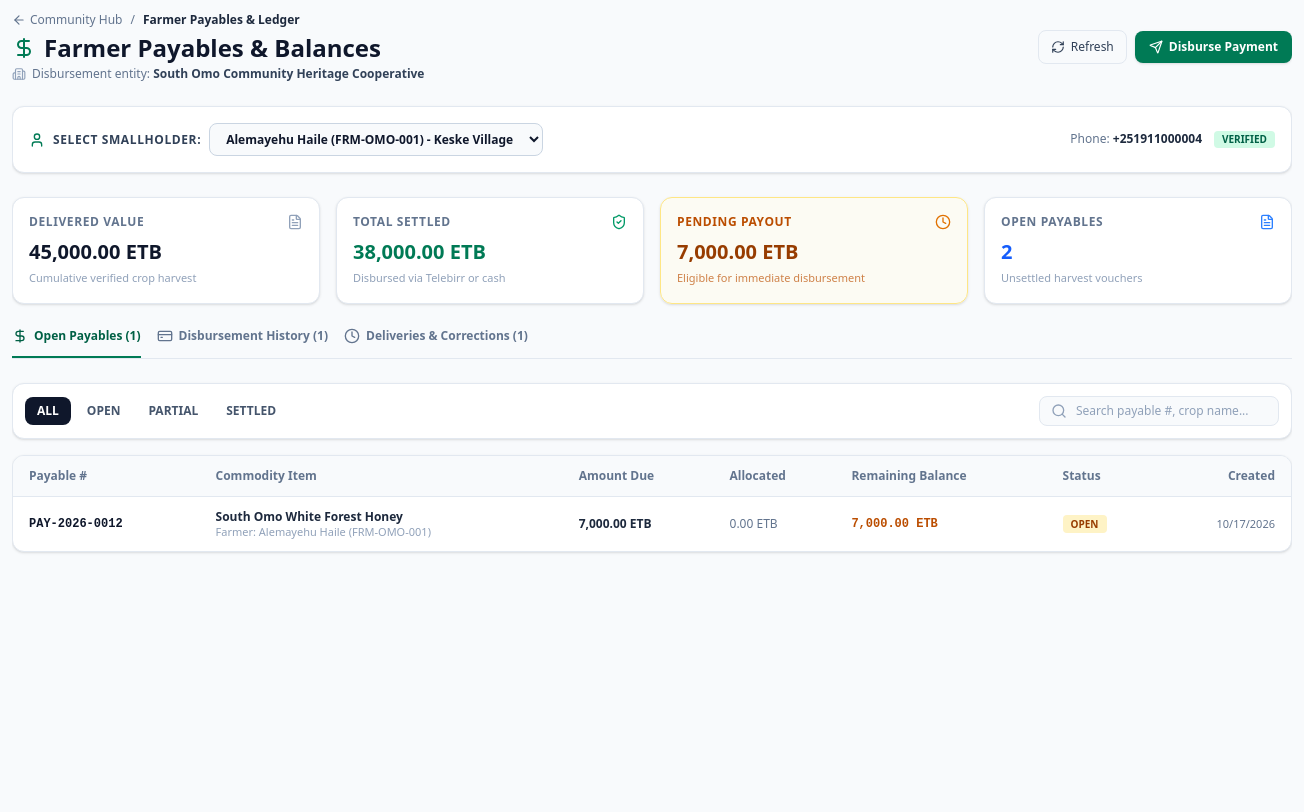
it: Farmer Payables, Balances & Payout Disbursements (F-806, F-807, F-808) › filters payables by status tab and search input
Expected: the text "PAY-2026-0012" is shown, [13,496,204,551]
Filter by SETTLED: PAY-2026-0012 is OPEN, so should disappear
Step 1. Click the button "SETTLED" → point(251, 410), box [214,396,288,424]
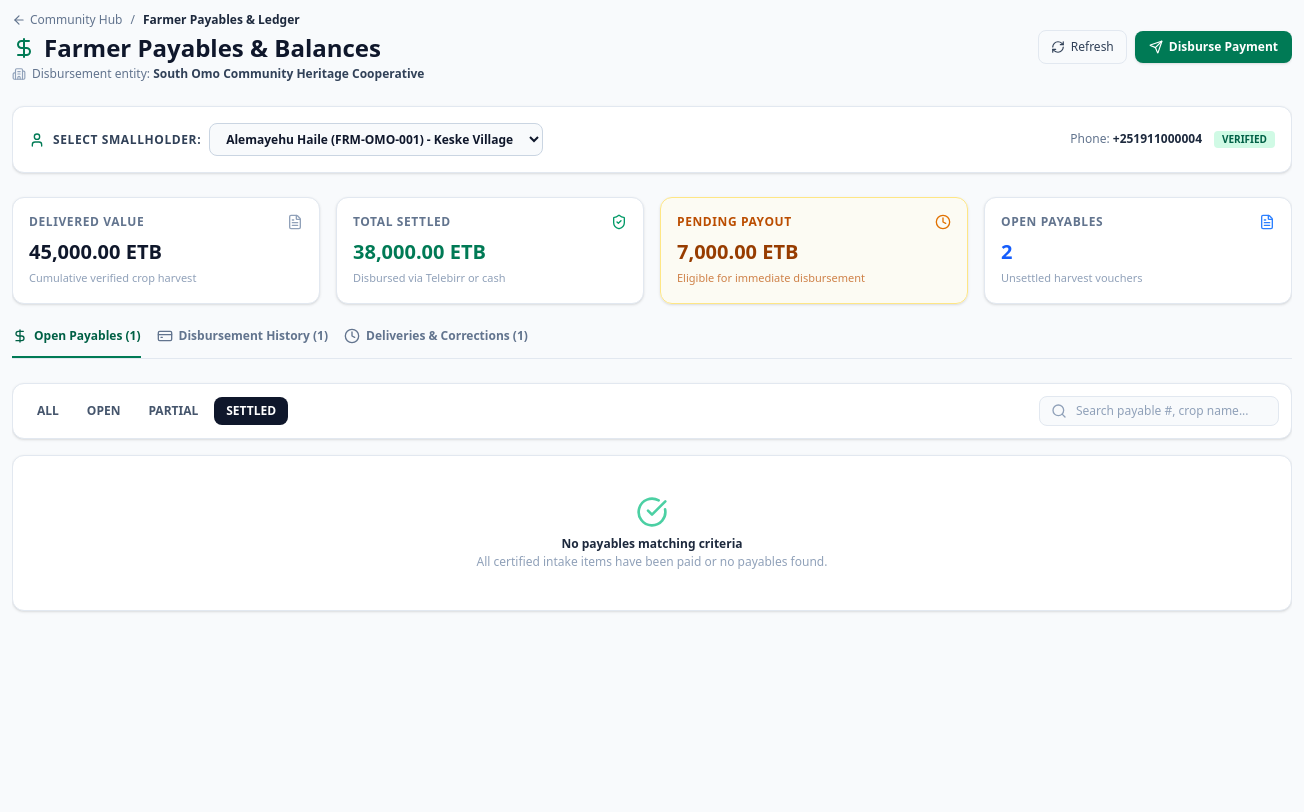
Expected: the text "PAY-2026-0012" is gone
Expected: the element with test id "empty-payables" is shown, [477,496,828,570]
Reset to ALL
Step 2. Click the button "ALL" → point(48, 410), box [25,396,71,424]
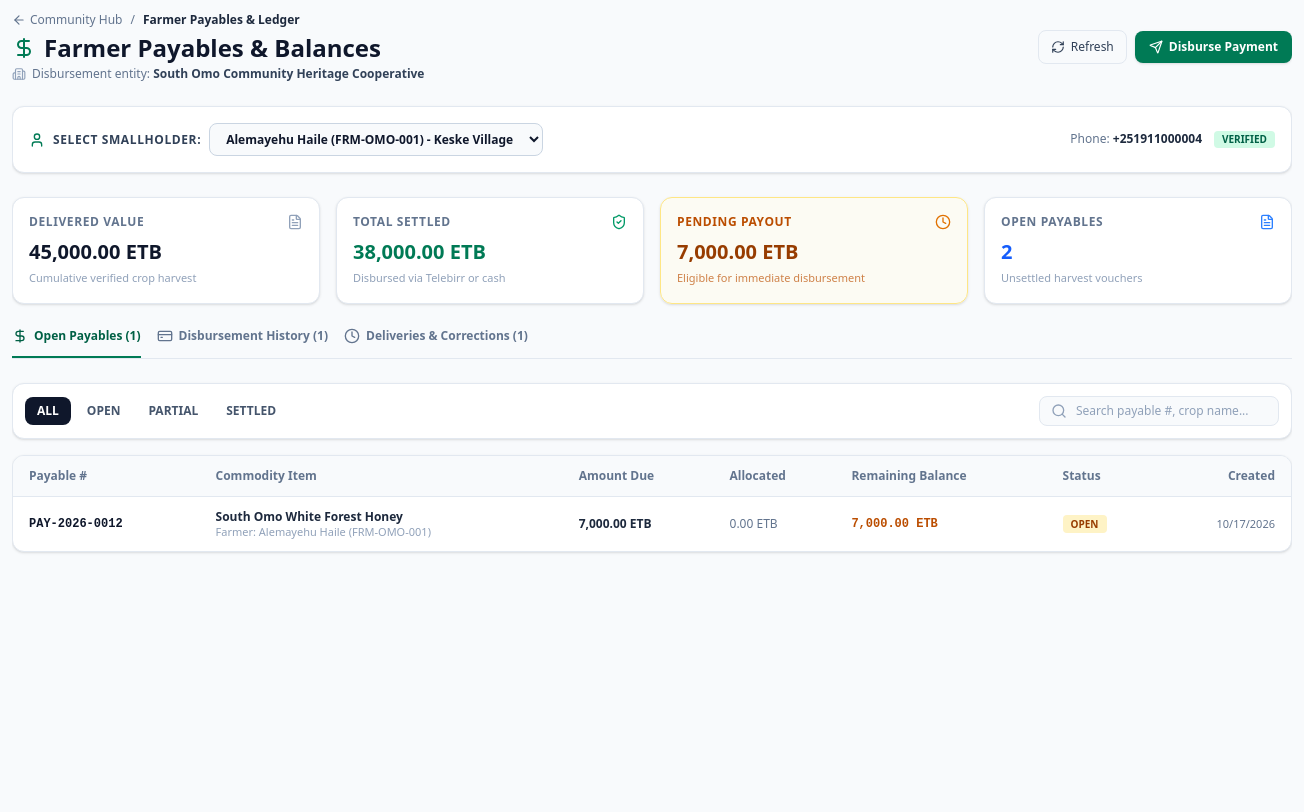
Expected: the text "PAY-2026-0012" is shown, [13,496,204,551]
Search query
Step 3. Type "Honey" into the field with test id "payables-search-input" → point(1159, 410), box [1039,396,1279,426]
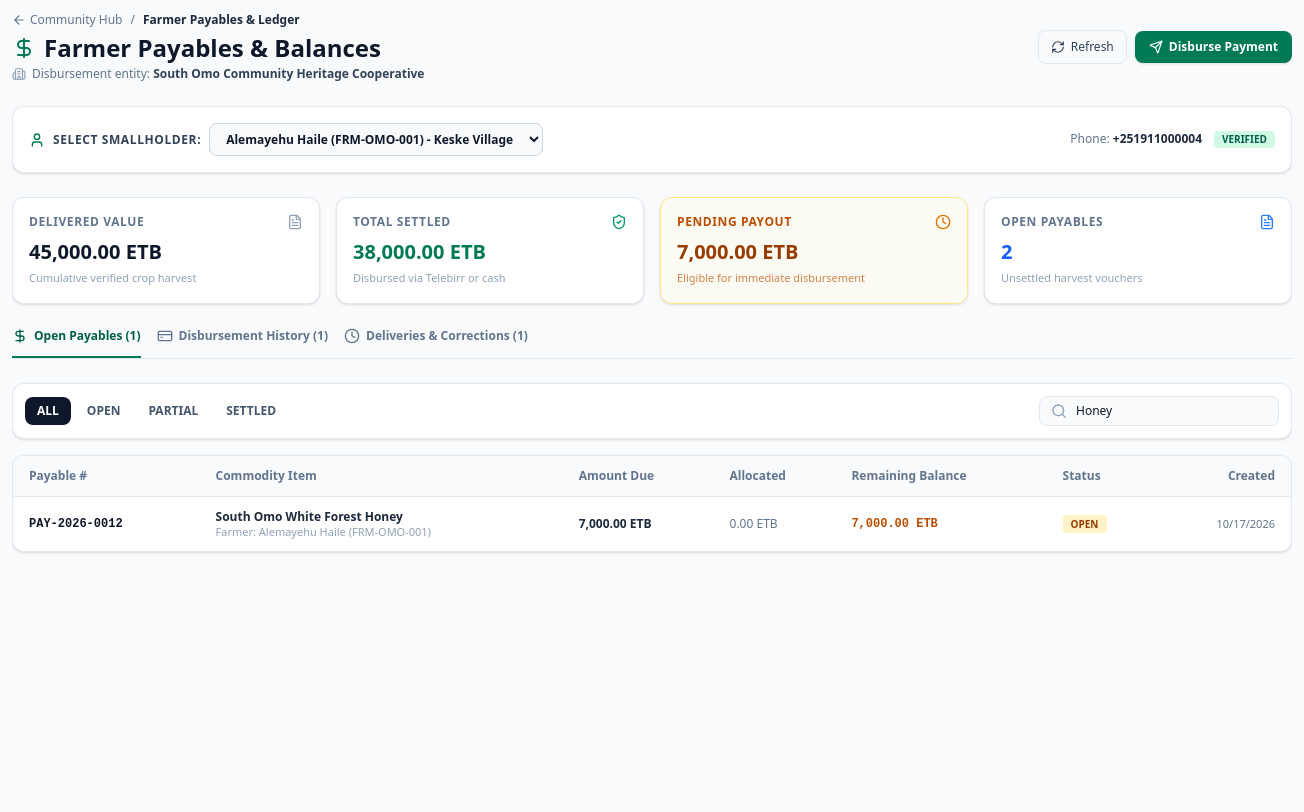
Expected: the text "PAY-2026-0012" is shown, [13,496,204,551]
Step 4. Replace the text in the field with test id "payables-search-input" with "Sesame" → point(1159, 410), box [1039,396,1279,426]
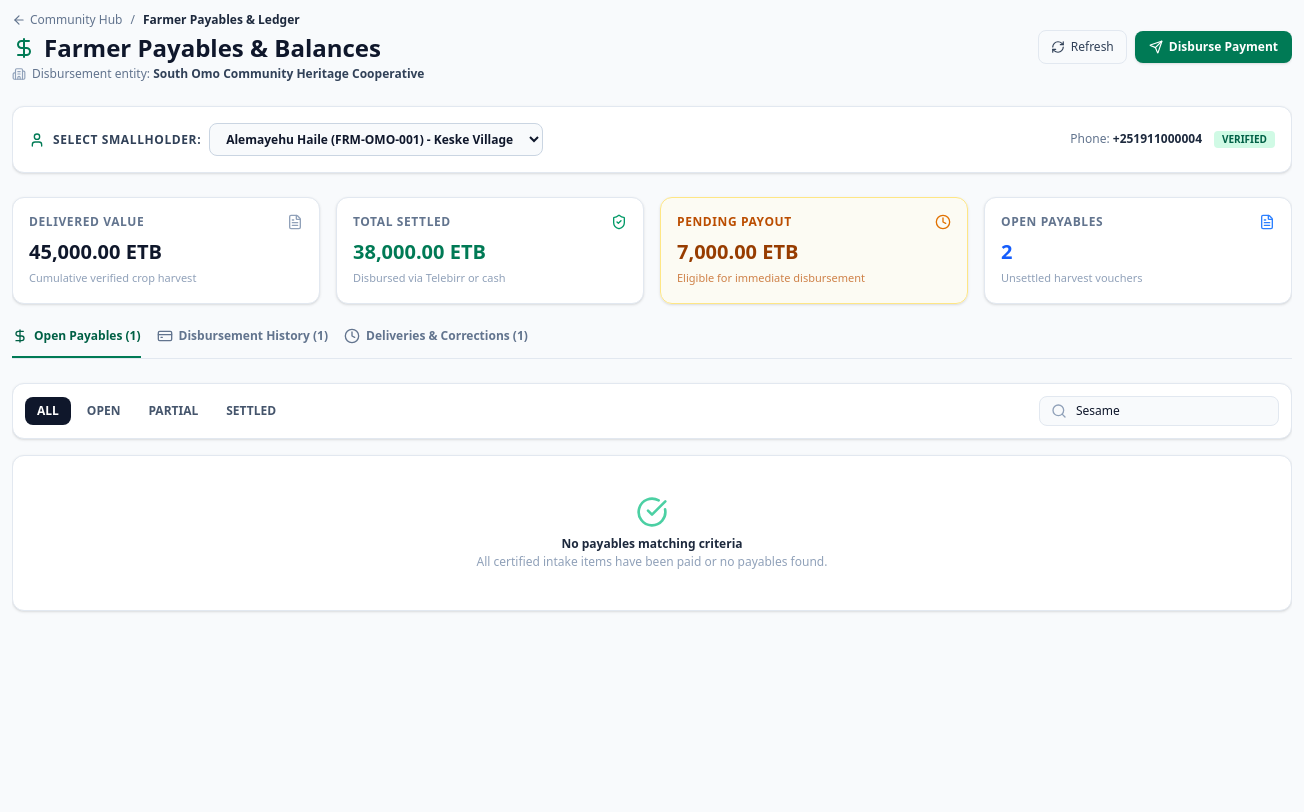
Expected: the text "PAY-2026-0012" is gone
